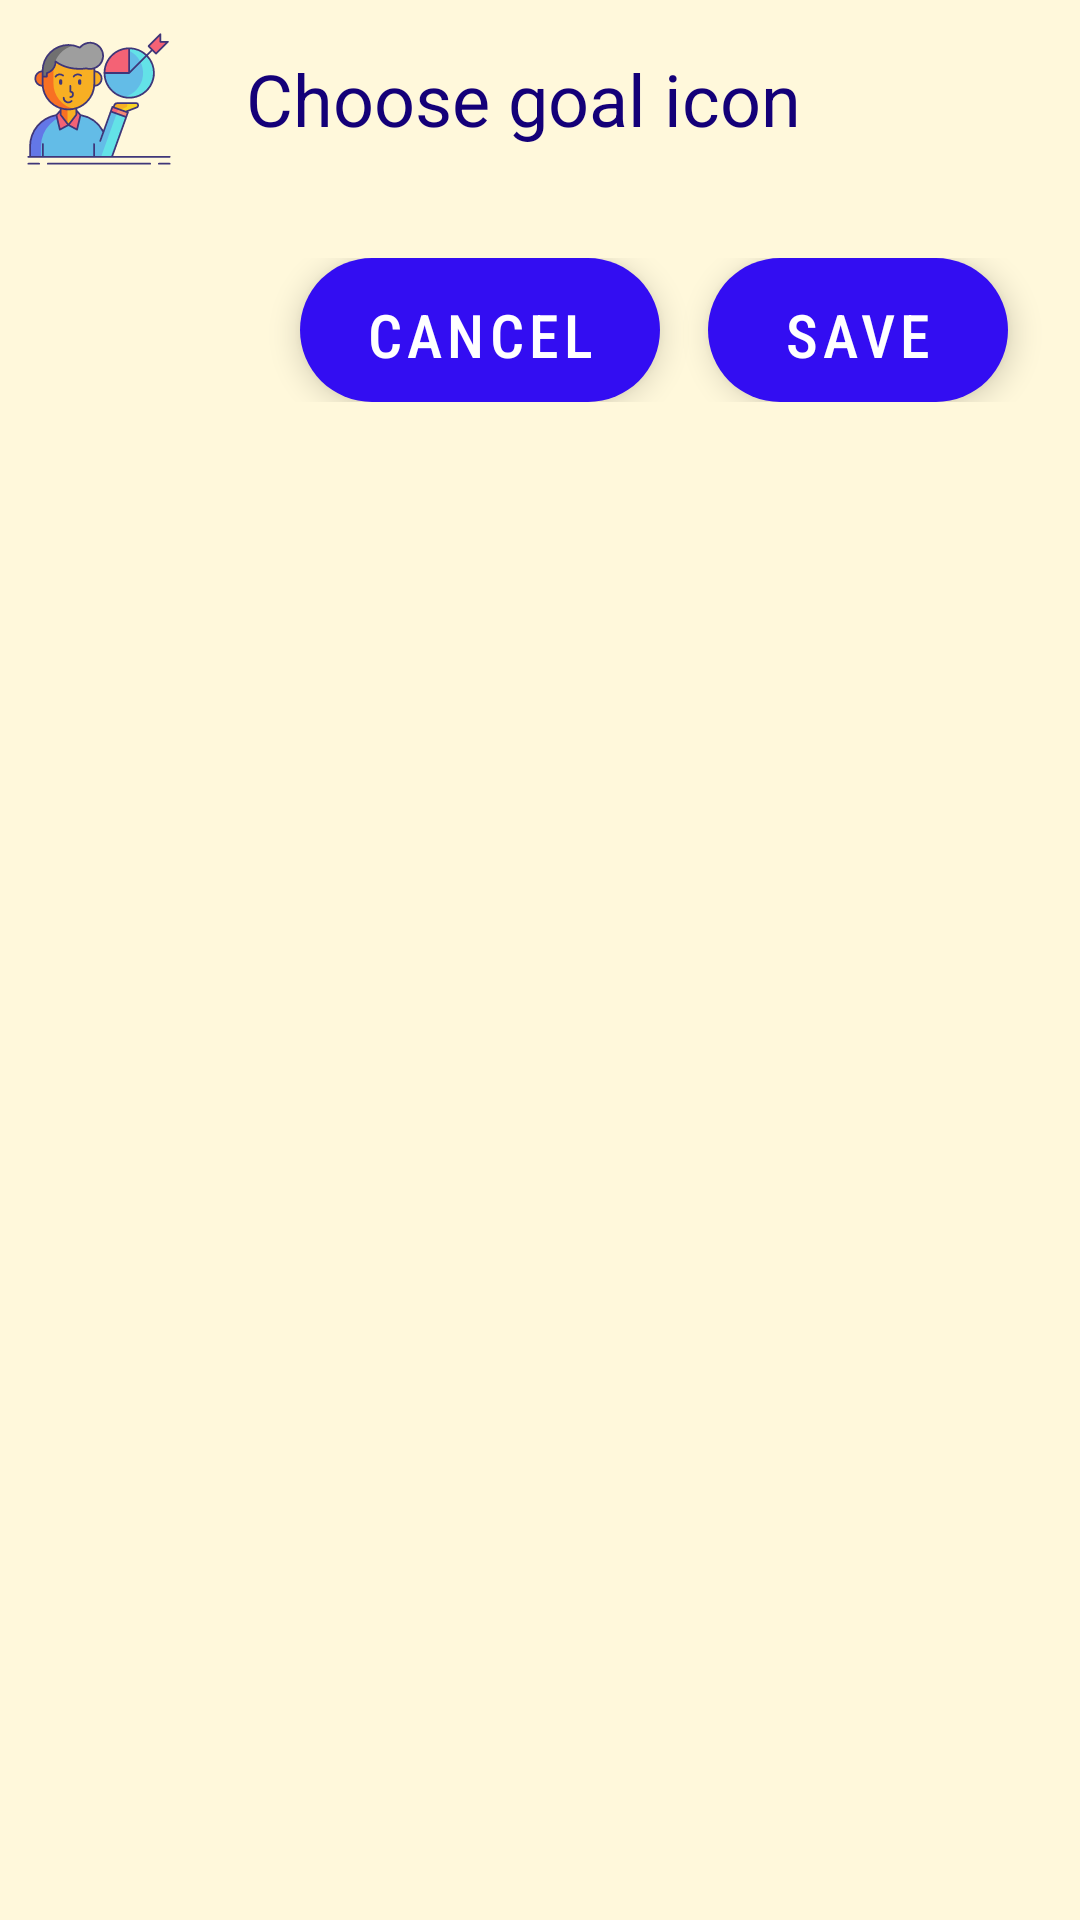

Named icons in this screenshot (1080*1920) and their centers, (x=x, y=y):
Icon for goals: (x=99, y=99)
